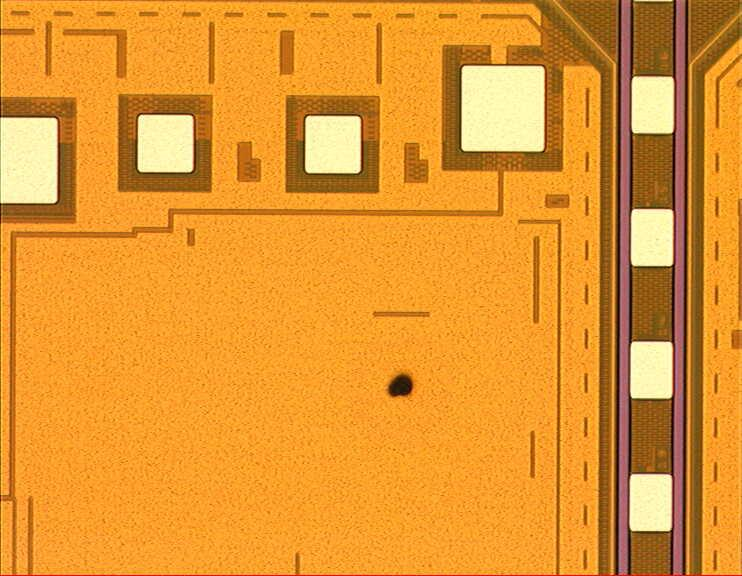PARTICLE: (384, 369, 420, 405)
